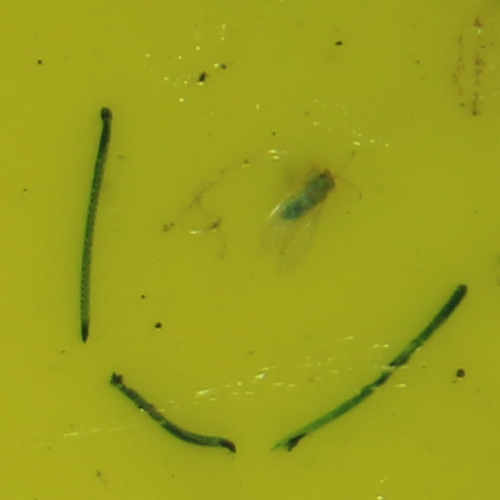Glycaspis: (283, 165, 340, 220)
